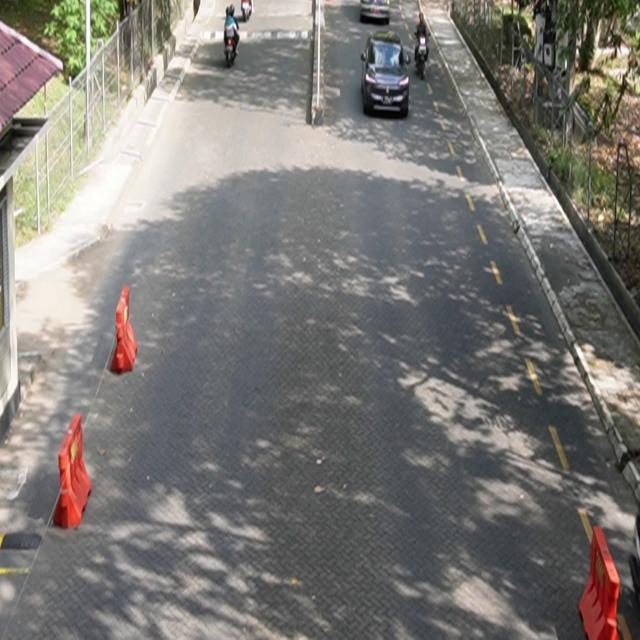car: (361, 30, 411, 119)
